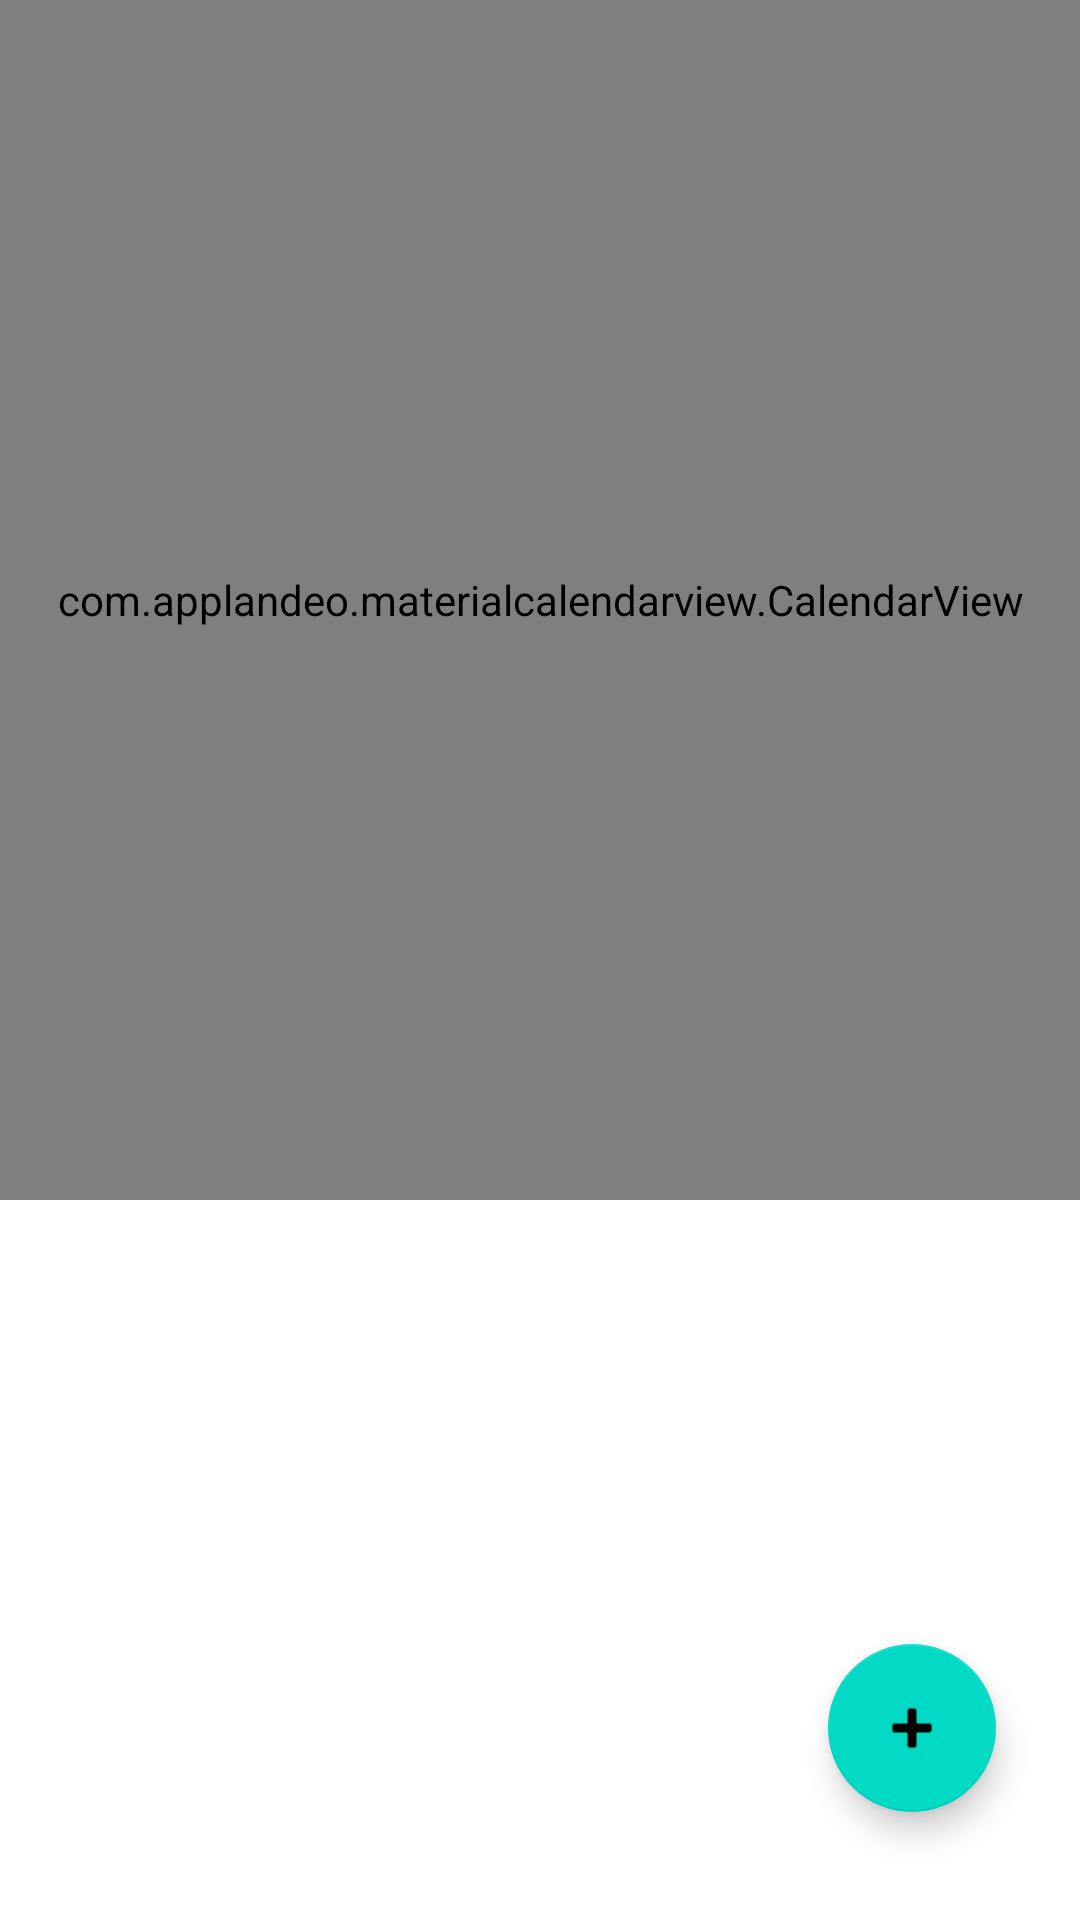

Screen size 1080*1920. Icon name, then its box in pixels as (x1, y1, x2, y2):
add: (828, 1644, 996, 1812)
